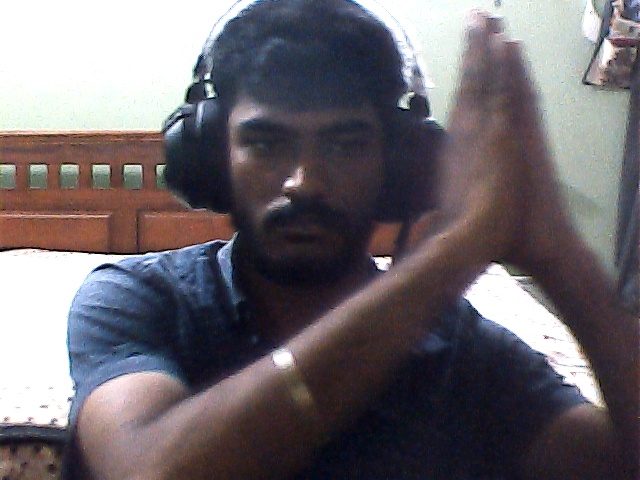Sign: (424, 25, 581, 262)
